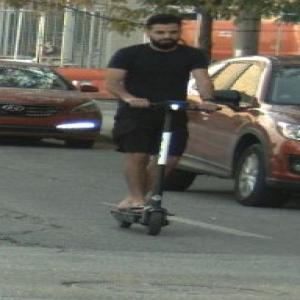with scooter: (106, 14, 222, 236)
